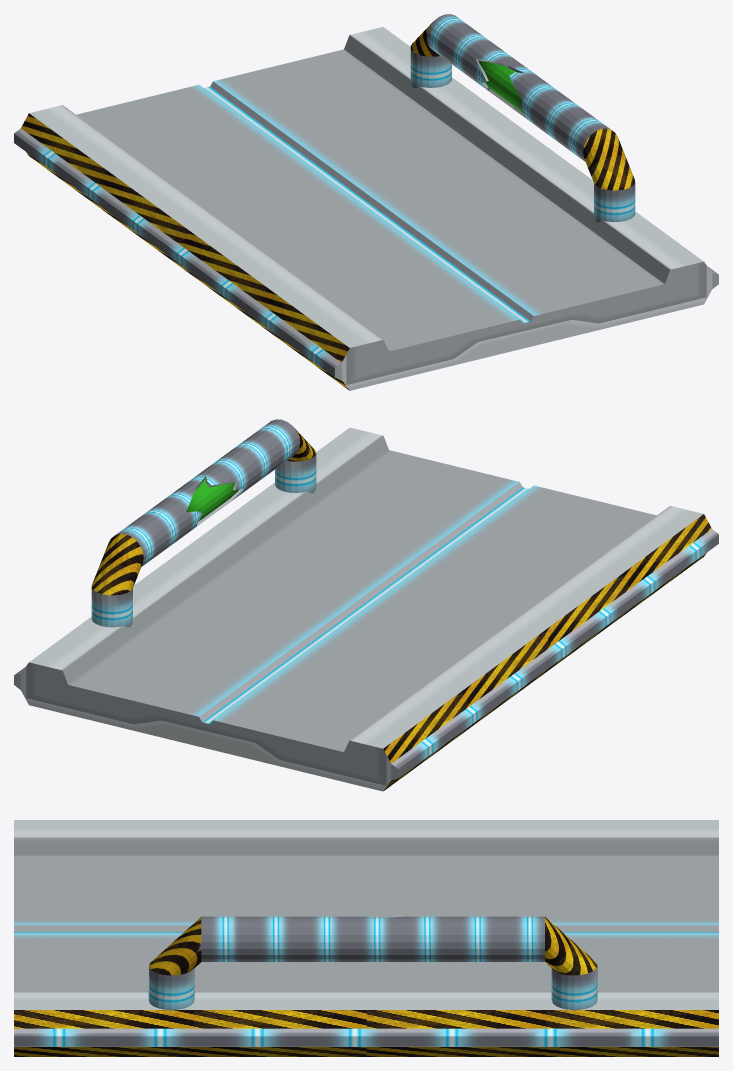
File: Obstacle_3.fbx
The picture shows the model from 3 angles, top to bottom: view 1: azimuth 30°, elevation 25°; view 2: azimuth 150°, elevation 25°; view 3: azimuth 270°, elevation 25°; orthographic projection. The views are drawn at different scales.
Parts seen in each view (by area): view 1: Obstacle_3; view 2: Obstacle_3; view 3: Obstacle_3.
Boxes of the visible parts, <box> form: Obstacle_3: <box>14,14,718,390</box>; Obstacle_3: <box>14,419,718,791</box>; Obstacle_3: <box>14,820,718,1056</box>.
Size of the model in its own units: 4.15 by 1.21 by 6.
2 materials, 2 textured.
